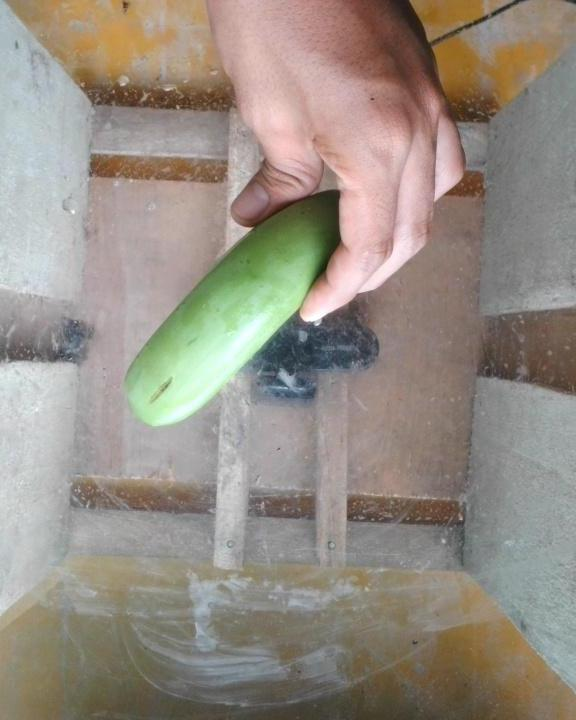CLASS B: (123, 170, 354, 438)
Class A: (145, 367, 182, 409)
